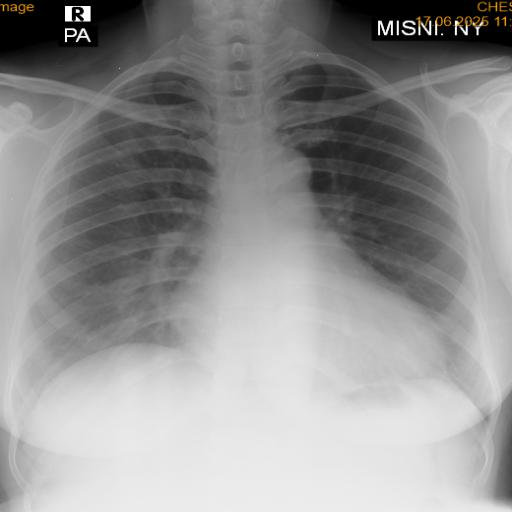kardiomegali: (8, 39, 504, 425)
